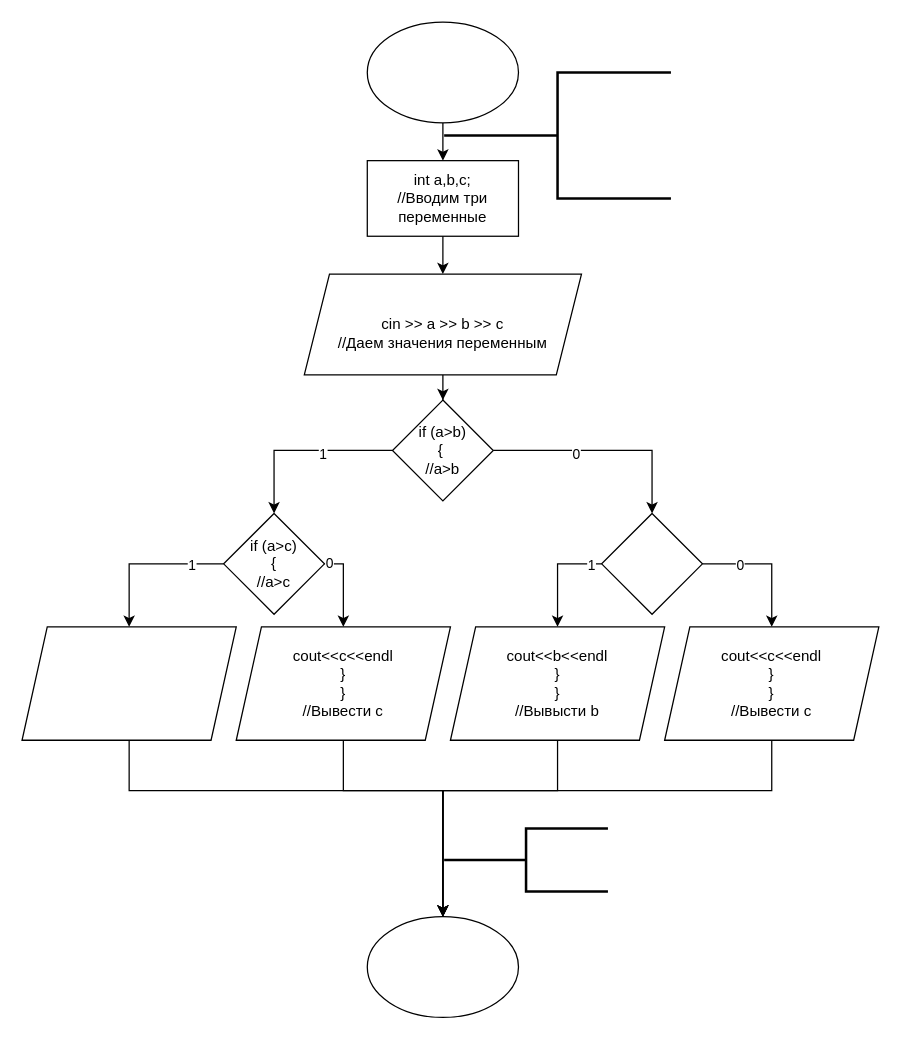
Image size: 901x1040. Some labels were removed from this diagram. The shapes that lost their labels are listed below. From the top down, each one's centre as x and y in pixels, then its label:
pixel 442 72: Начала
pixel 651 563: else { if(b>c) { //b>c
pixel 128 683: cout<<a<<endl } } //Вывести а
pixel 442 966: Конец
